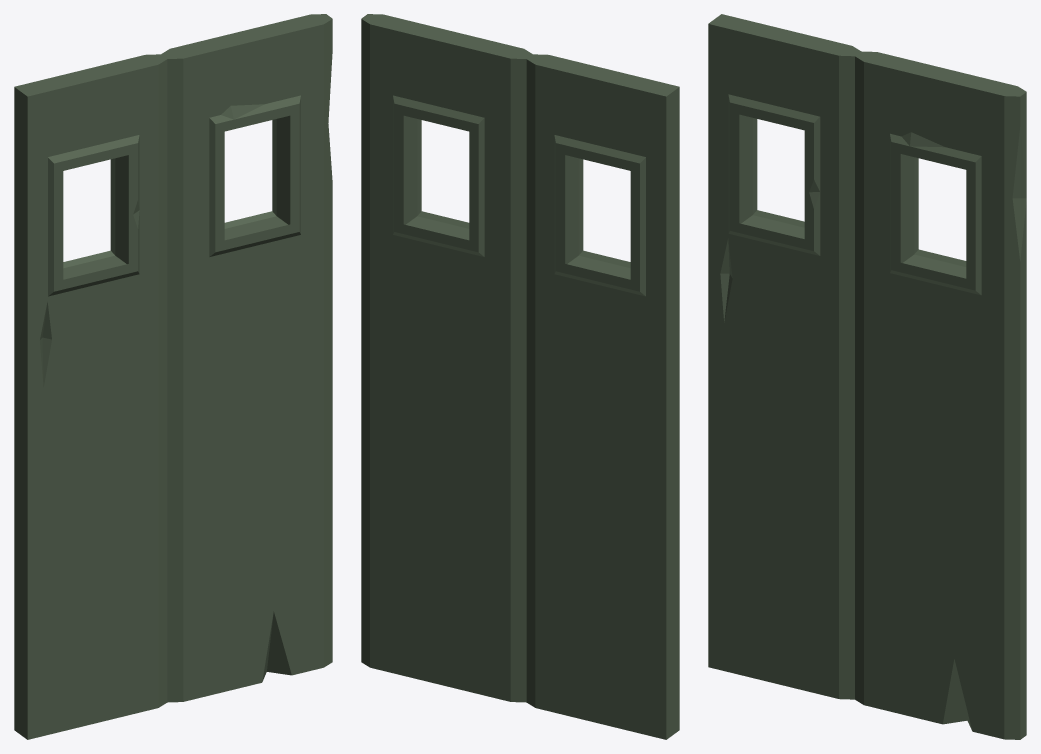
The model's file is SM_Bld_SingleGarage_Door_R.fbx.
3 renders of one model, left to right at view 1: azimuth 30°, elevation 25°; view 2: azimuth 150°, elevation 25°; view 3: azimuth 330°, elevation 25°, orthographic.
Parts seen in each view (by area): view 1: SM_Bld_SingleGarage_Door_R; view 2: SM_Bld_SingleGarage_Door_R; view 3: SM_Bld_SingleGarage_Door_R.
Part boxes in pixels (x1=…): SM_Bld_SingleGarage_Door_R: x1=14, y1=14, x2=332, y2=739; SM_Bld_SingleGarage_Door_R: x1=361, y1=14, x2=679, y2=739; SM_Bld_SingleGarage_Door_R: x1=708, y1=14, x2=1026, y2=739.
Bounding box in the file's own units: 128 × 254 × 12.95.
